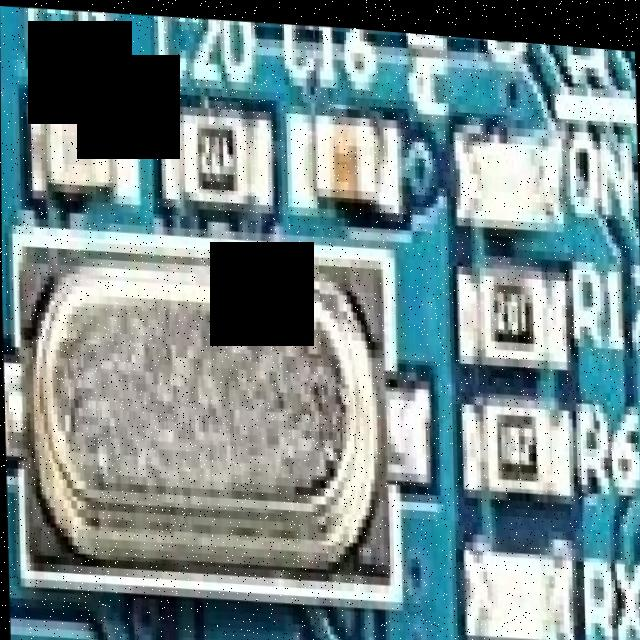LED: (465, 529, 577, 640), (460, 128, 554, 216)
capacitor 1V5: (39, 85, 124, 201), (303, 105, 379, 199)
clock Q1: (13, 230, 395, 591)
resistor IR1: (467, 387, 561, 494), (467, 253, 556, 364), (174, 101, 258, 201)
